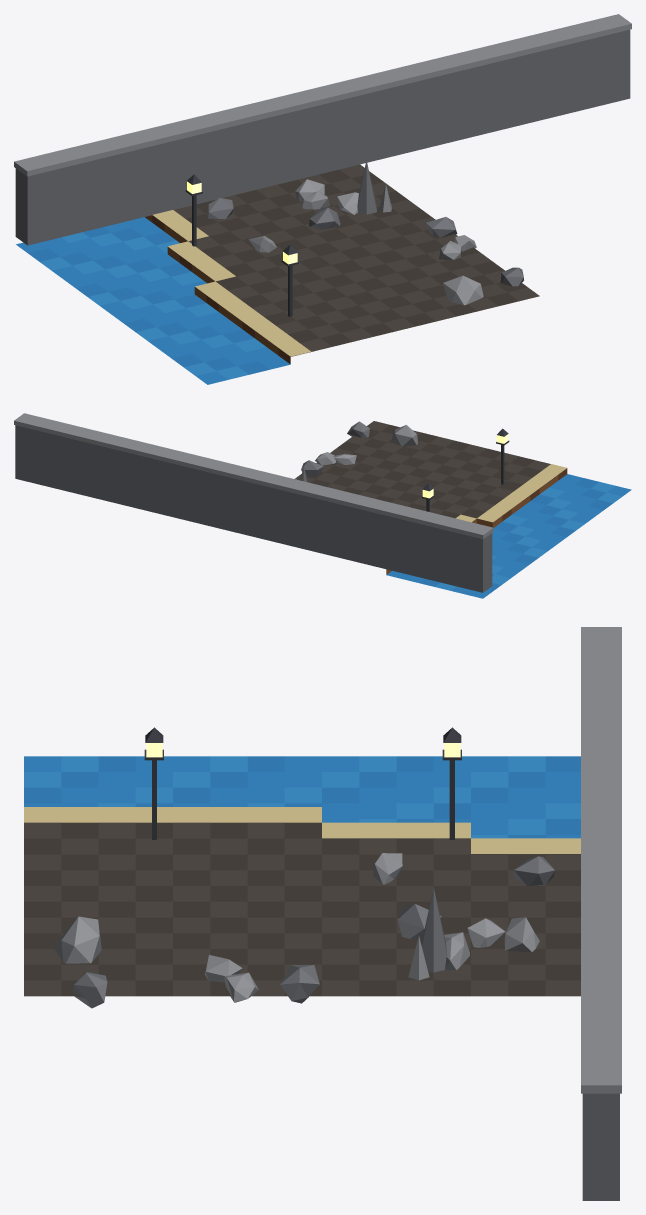
Rendered from chunk_4_18.glb.
3 renders of one model, top to bottom at view 1: azimuth 30°, elevation 25°; view 2: azimuth 150°, elevation 25°; view 3: azimuth 270°, elevation 25°, orthographic. The views are drawn at different scales.
Visible parts, largest first — view 1: chunk_4_18; view 2: chunk_4_18; view 3: chunk_4_18.
Boxes of the visible parts, x1,y1,x2,y2 form: chunk_4_18: [14, 14, 631, 384]; chunk_4_18: [14, 413, 631, 598]; chunk_4_18: [24, 627, 621, 1200].
Size of the model in its own units: 29.1 by 4.04 by 16.05.
